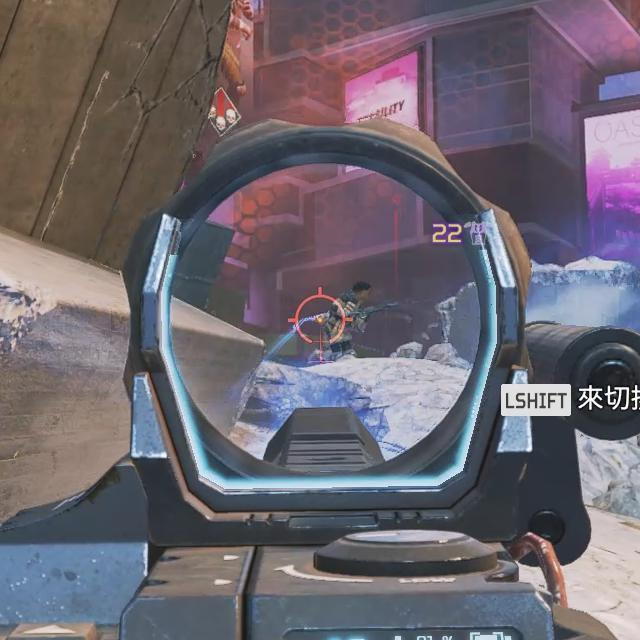avatar: (326, 280, 376, 356)
